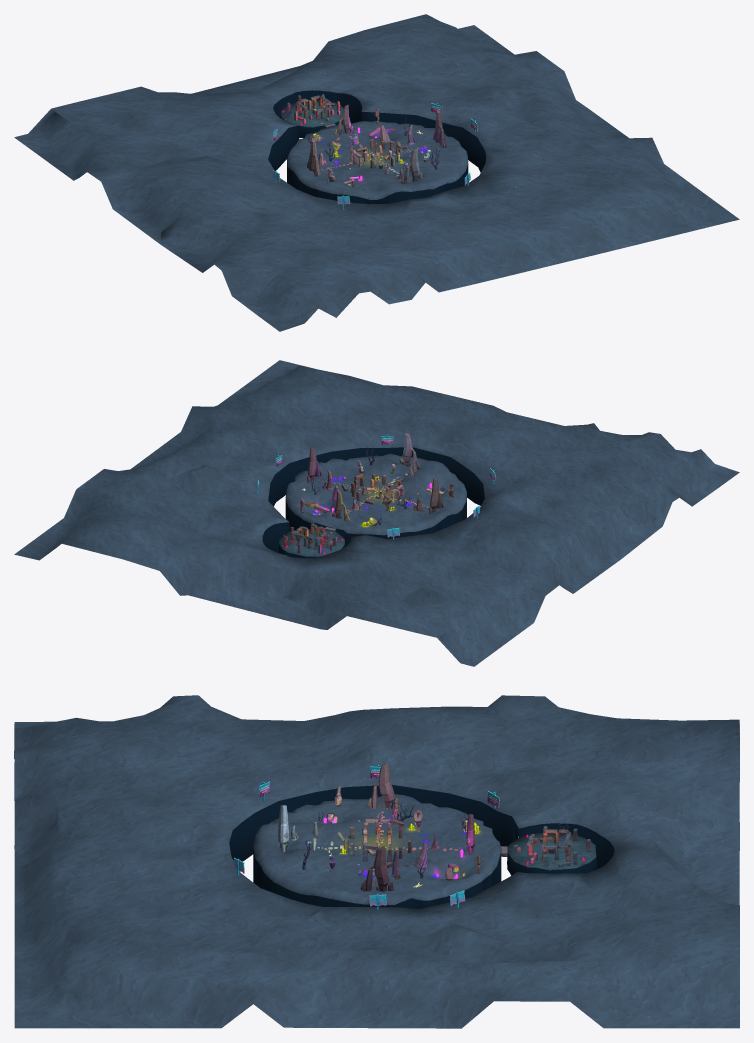
The model's file is noframes01.glb.
3 renders of one model, top to bottom at view 1: azimuth 30°, elevation 25°; view 2: azimuth 150°, elevation 25°; view 3: azimuth 270°, elevation 25°, orthographic. The views are drawn at different scales.
Parts seen in each view (by area): view 1: ground01, ground, epicrocks, galleryisland, artcolumns, randomrocks; view 2: ground01, ground, epicrocks, galleryisland, artcolumns, randomrocks; view 3: ground01, ground, galleryisland, epicrocks, mediumrocks, randomrocks, artcolumns.
Boxes of the visible parts, x1,y1,x2,y2 form: ground01: (14, 14, 739, 331); ground: (287, 120, 468, 204); epicrocks: (307, 104, 446, 183); galleryisland: (280, 99, 343, 138); artcolumns: (294, 95, 331, 118); randomrocks: (311, 108, 402, 184); ground01: (14, 360, 739, 666); ground: (285, 453, 466, 546); epicrocks: (307, 433, 443, 521); galleryisland: (278, 528, 345, 558); artcolumns: (290, 523, 327, 550); randomrocks: (300, 459, 454, 525); ground01: (14, 695, 739, 1028); ground: (253, 794, 501, 909); galleryisland: (507, 832, 597, 875); epicrocks: (278, 763, 475, 891); mediumrocks: (311, 810, 427, 879); randomrocks: (291, 785, 480, 880); artcolumns: (526, 829, 572, 861).
Bounding box in the file's own units: 1452 × 205 × 1453.
Materials: 33 (20 with a texture image).
